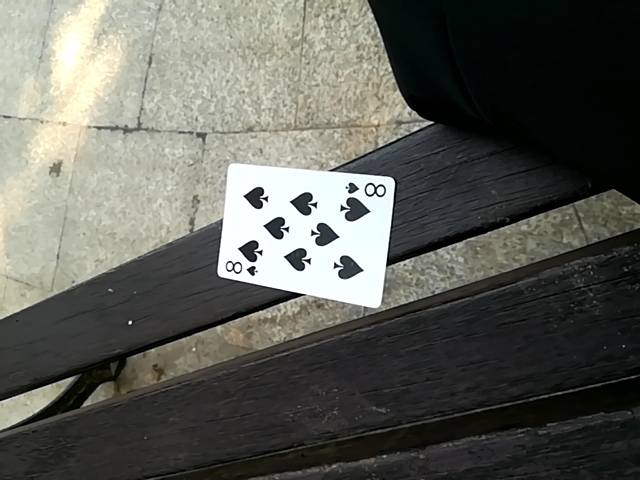ht 8: (204, 164, 392, 308)
